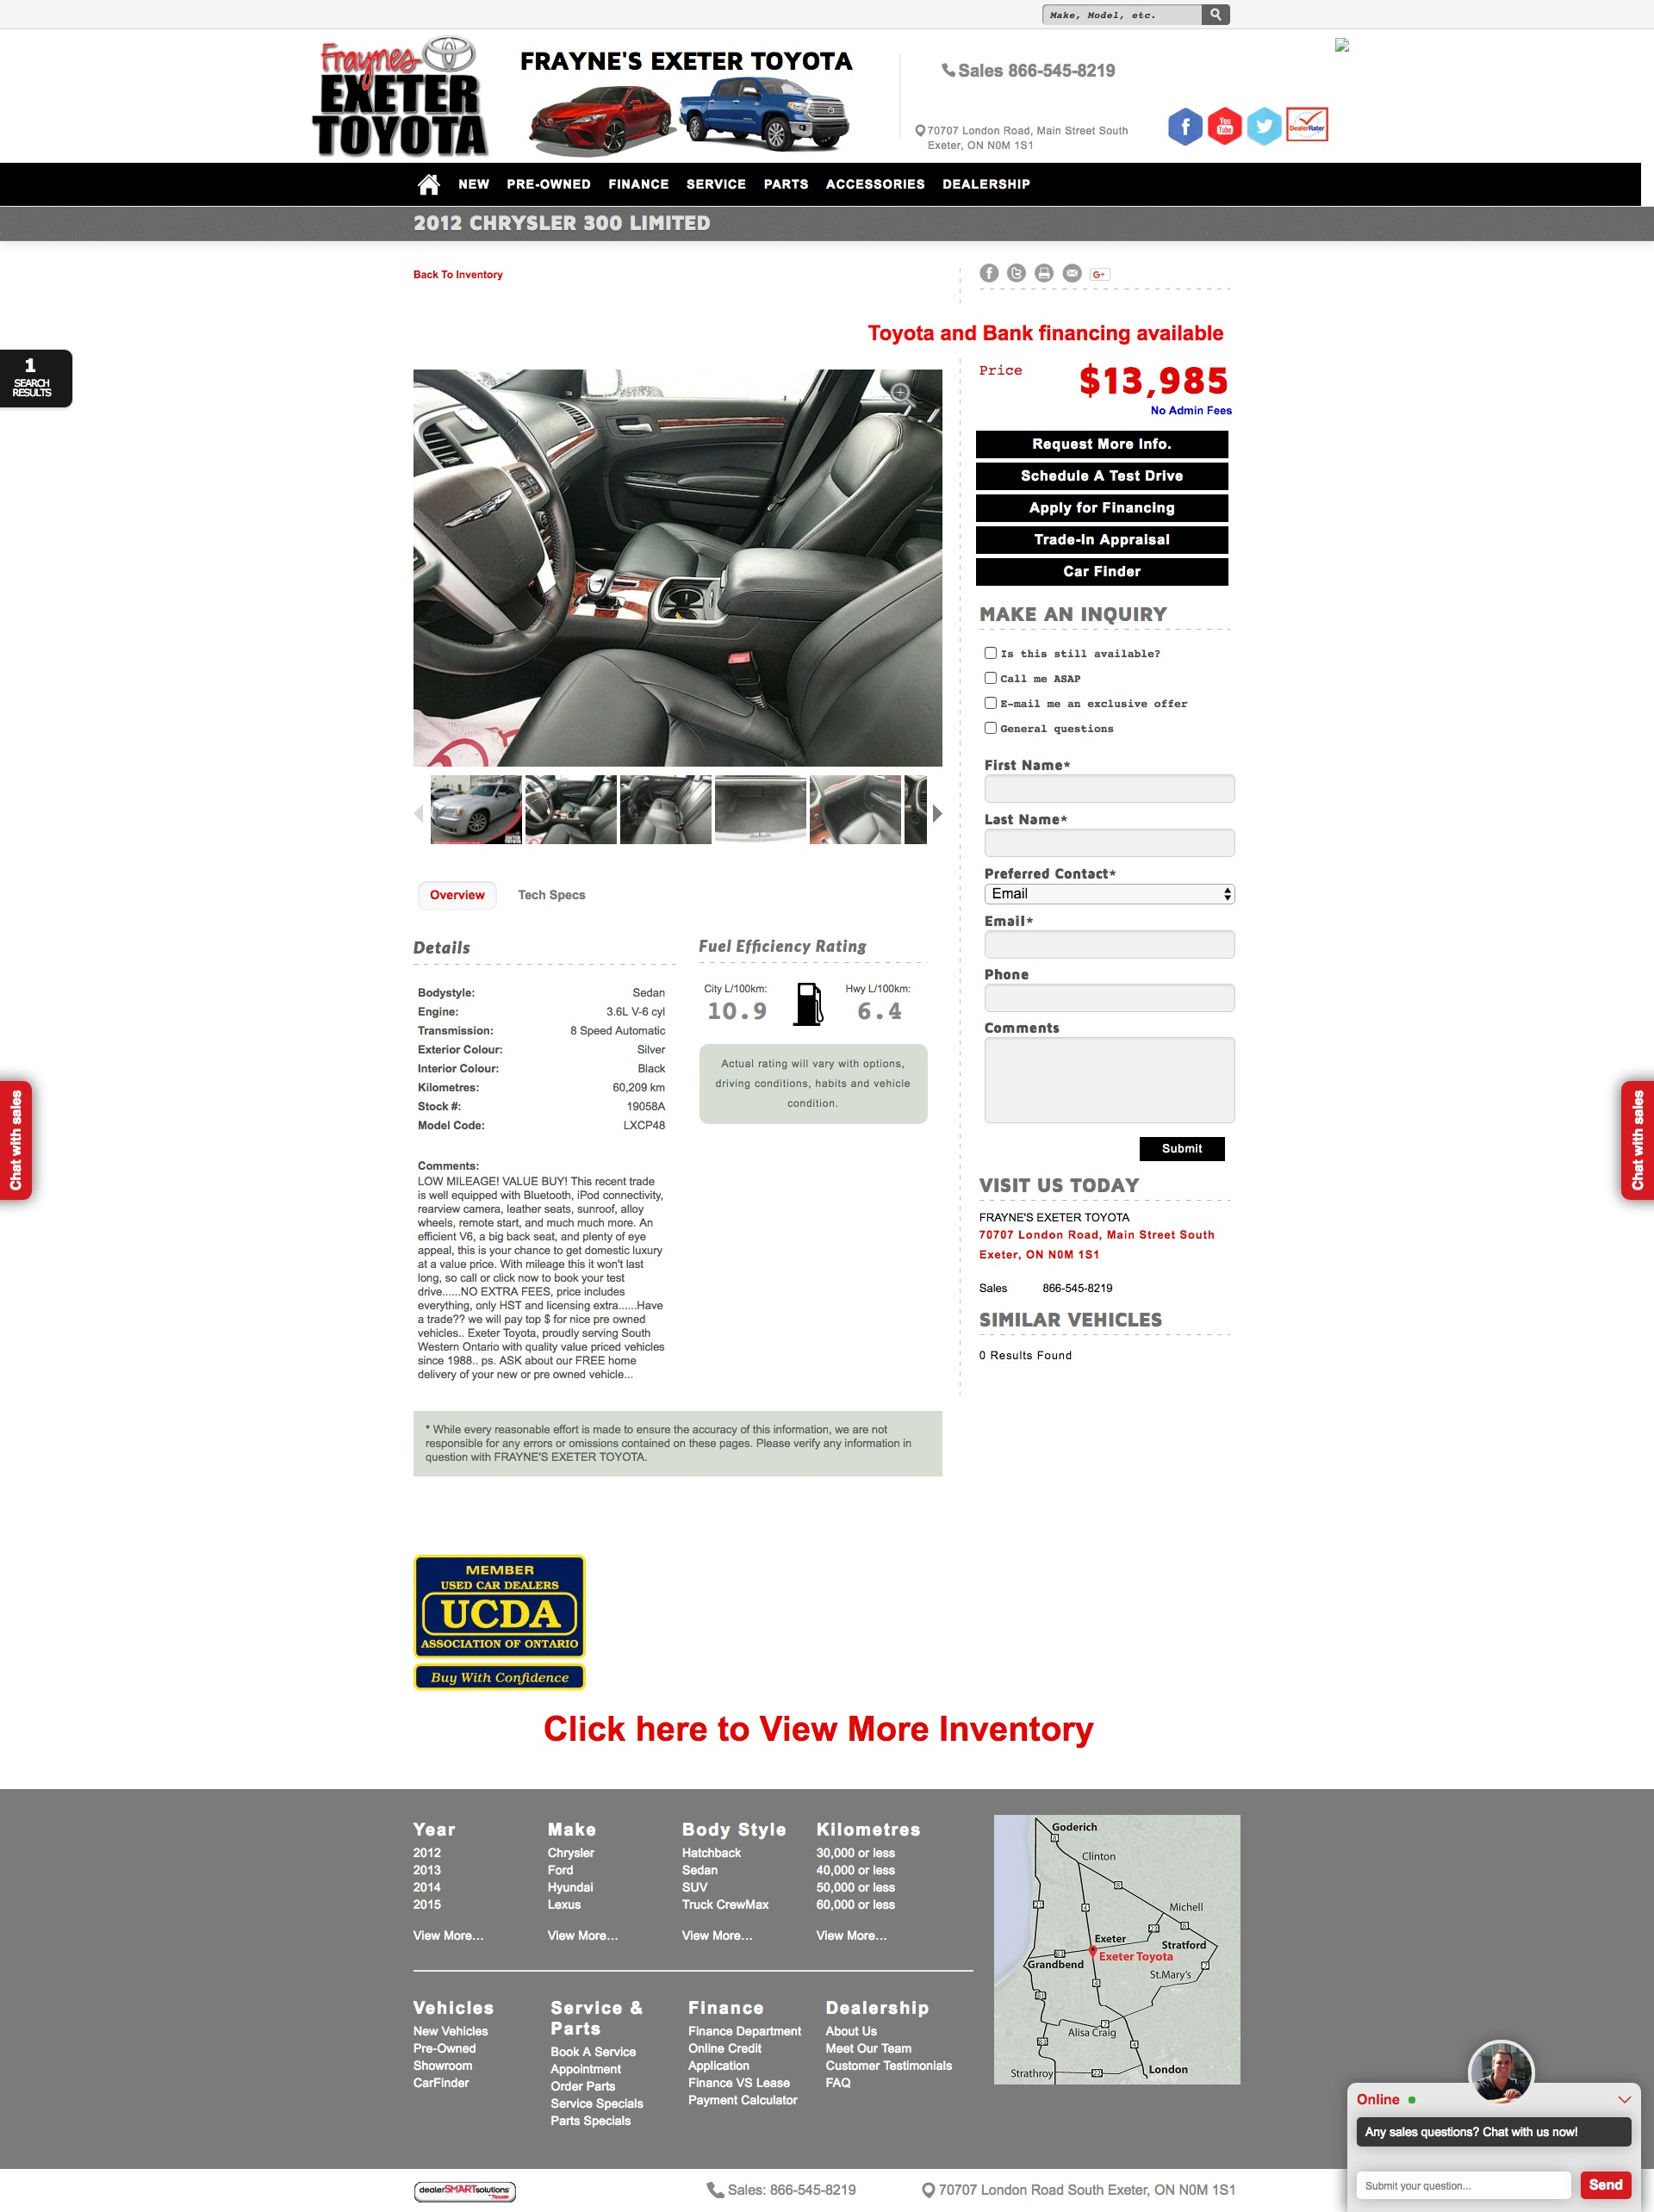car: (933, 805, 943, 824)
